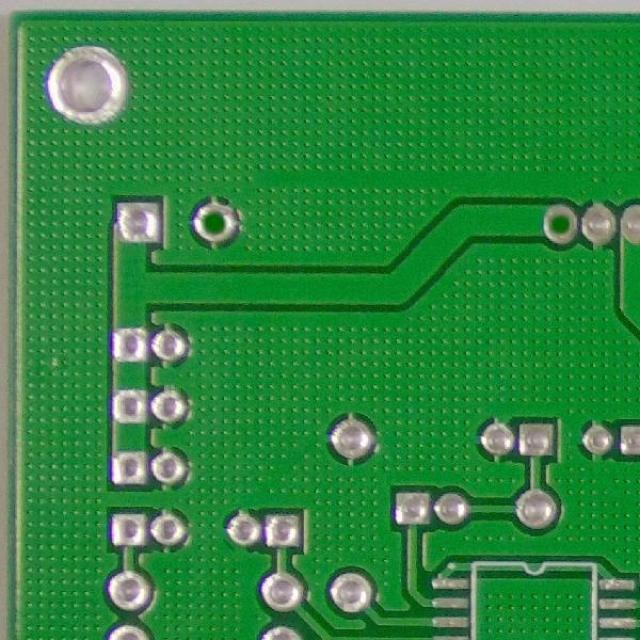missing_hole: (189, 200, 237, 250), (542, 202, 577, 244)
